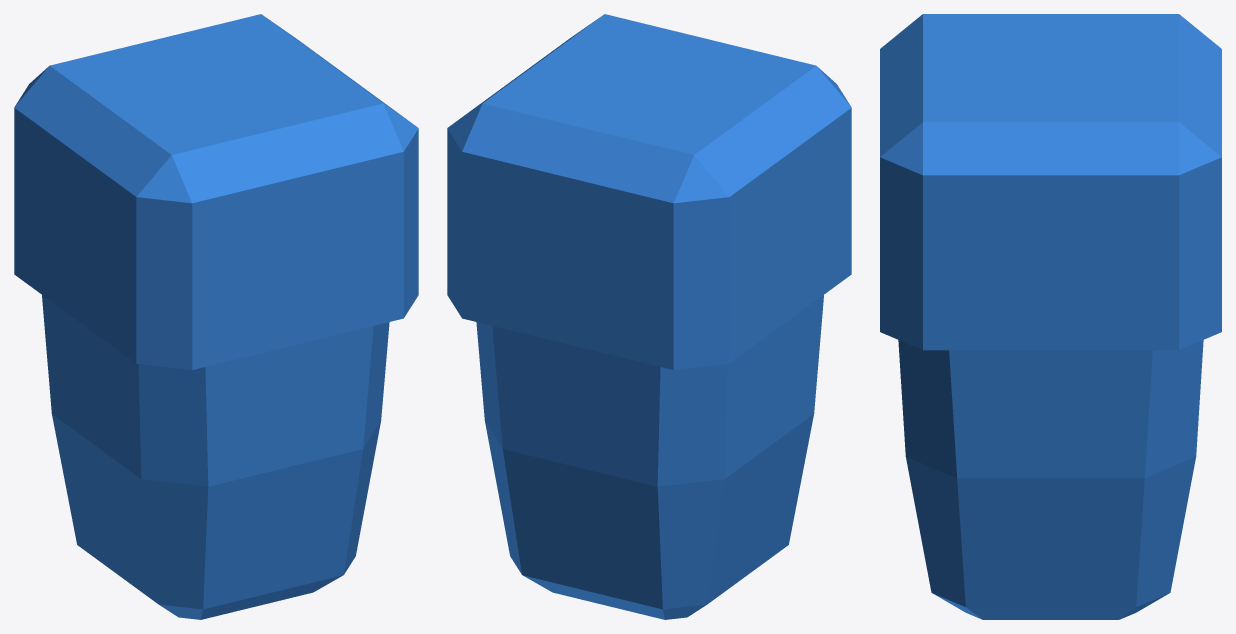
File: body2.FBX
The picture shows the model from 3 angles, left to right: view 1: azimuth 30°, elevation 25°; view 2: azimuth 150°, elevation 25°; view 3: azimuth 270°, elevation 25°; orthographic projection. The views are drawn at different scales.
Parts seen in each view (by area): view 1: VIFS001; view 2: VIFS001; view 3: VIFS001.
Part boxes in pixels (x1,y1,x2,y2): VIFS001: [14, 14, 418, 619]; VIFS001: [447, 14, 851, 619]; VIFS001: [880, 14, 1221, 619].
Size of the model in its own units: 0.319 by 0.531 by 0.319.
